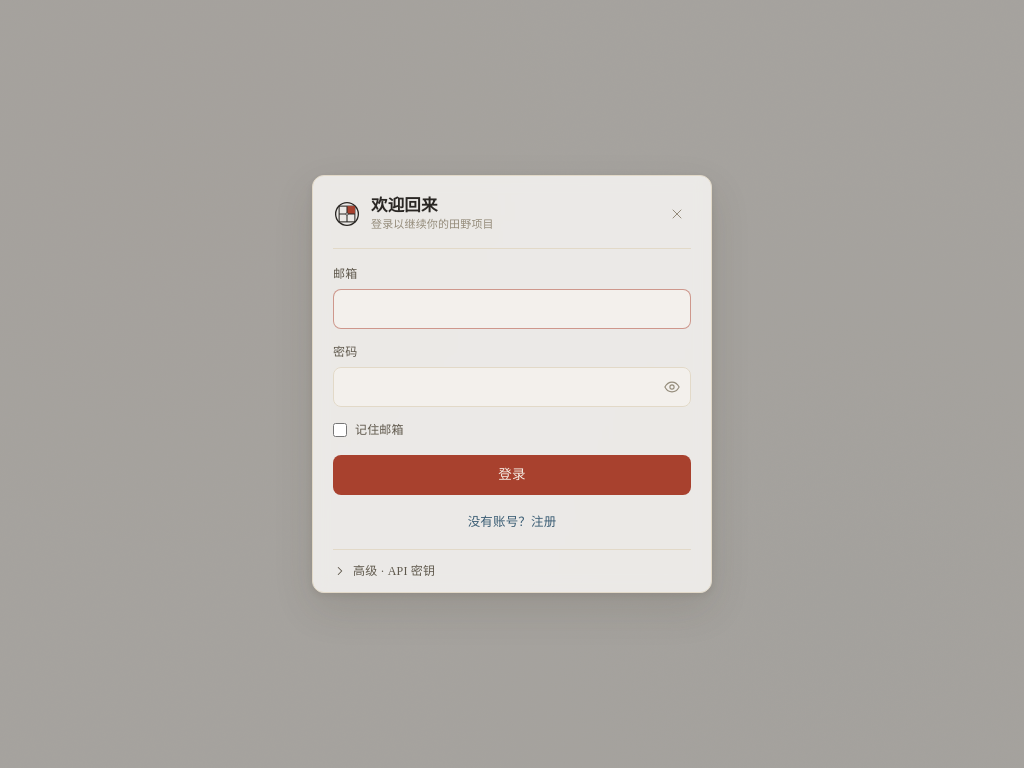
Test: AuthDialog › 记住邮箱勾选框仅登录模式显示（注册模式不出现）
Expected: the checkbox labelled "记住邮箱" is shown, [333, 423, 347, 437]
Click the button "没有账号？注册". click: x=512, y=523
box: [468, 513, 556, 532]
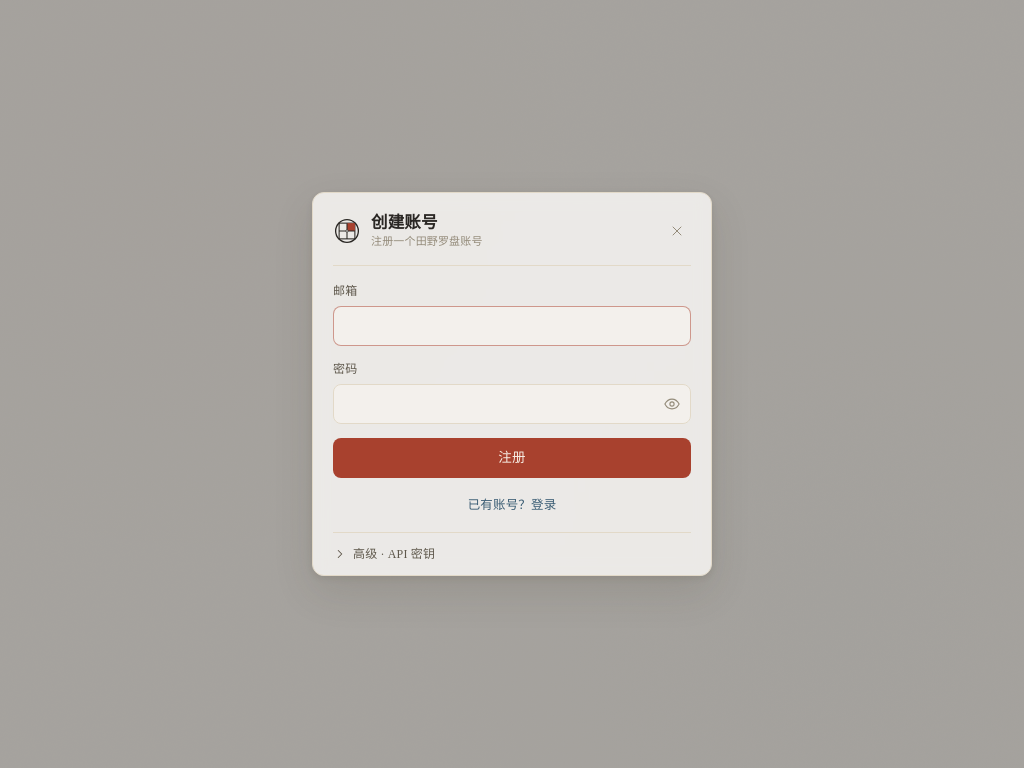
Expected: the text labelled "记住邮箱" is gone
